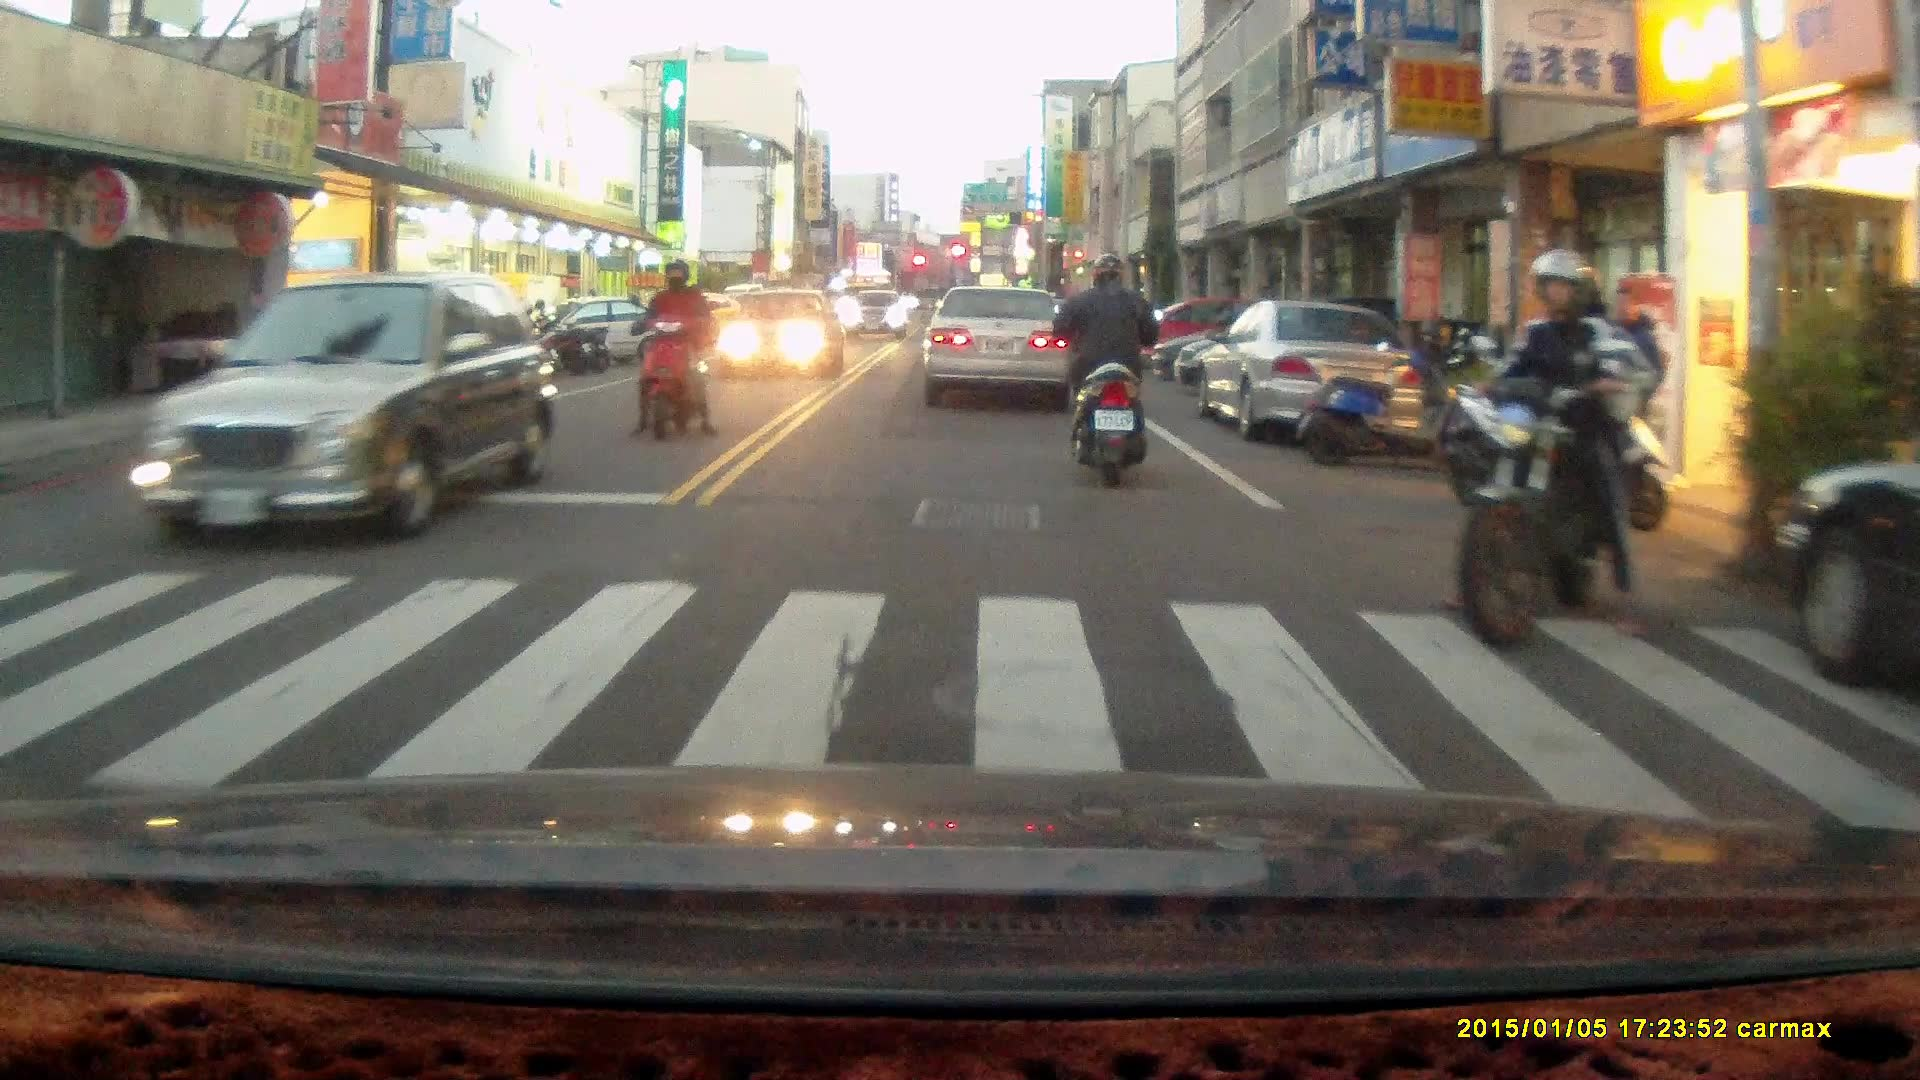pedestrian: (1604, 283, 1665, 490)
rider: (1453, 251, 1660, 645), (1051, 250, 1165, 486), (627, 258, 717, 444)
vehicle: (134, 271, 560, 549), (1764, 432, 1920, 690), (1203, 304, 1432, 449), (926, 286, 1081, 387), (711, 285, 841, 378), (840, 289, 916, 346)
